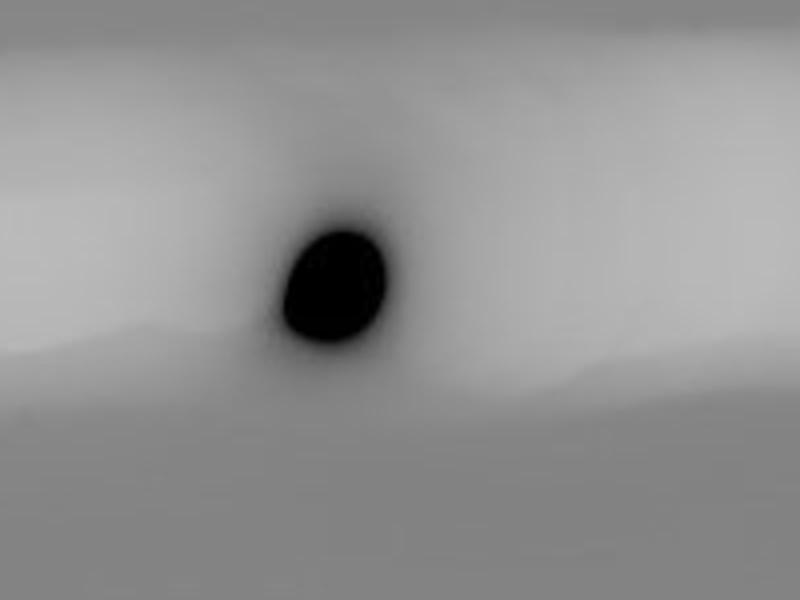defect: (280, 230, 385, 345)
